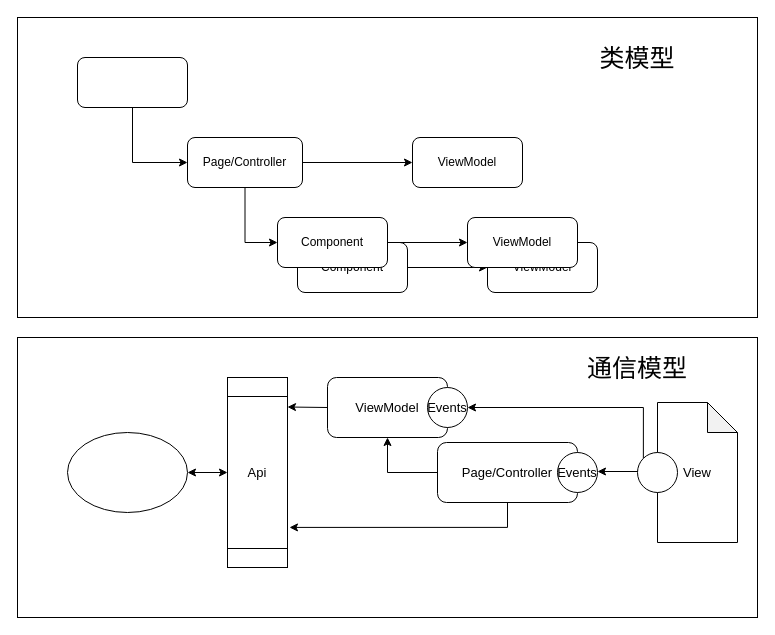
Some shapes in this 775 by 635 pixel diagram are drawn without their labels. The shapes that lost their labels are listed below. From the top down, each one's centre as x and y in pixels, then its label:
(132,82): Application
(127,472): Server
(657,472): Action
